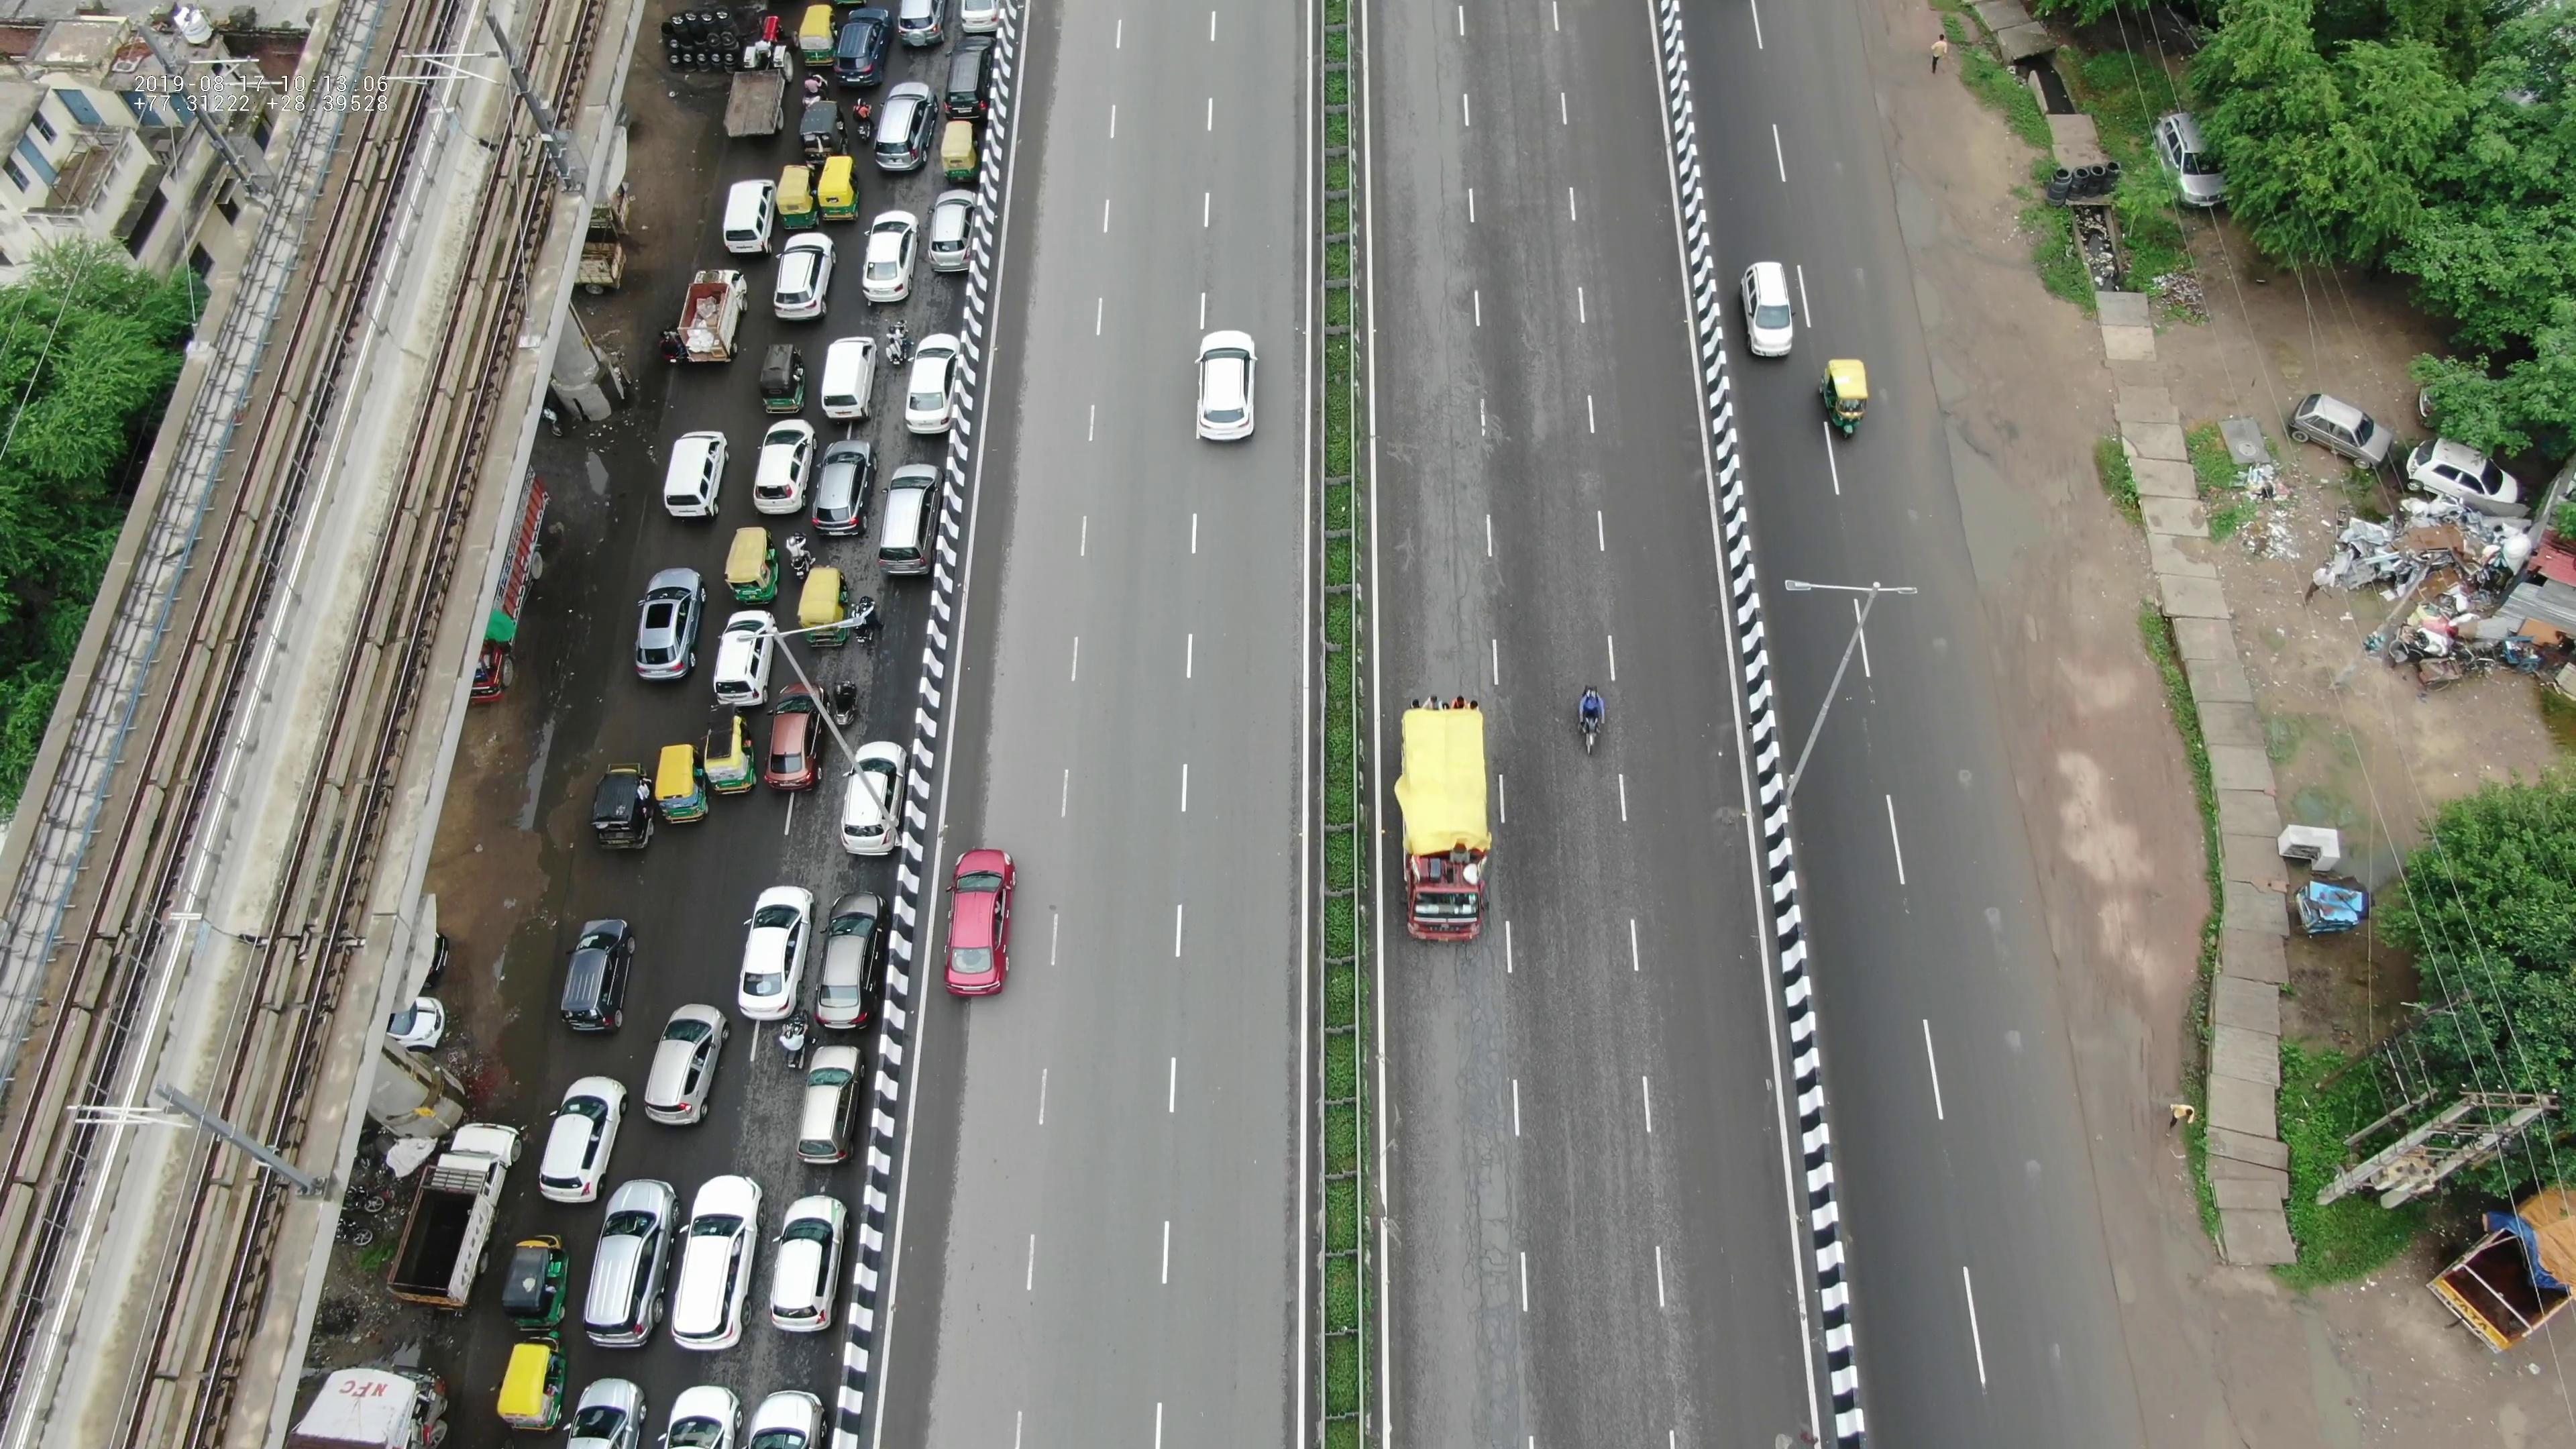Alligator_cracks: (1401, 1108, 1571, 1419), (1384, 426, 1548, 667), (1391, 193, 1525, 405), (1415, 959, 1575, 1097)
